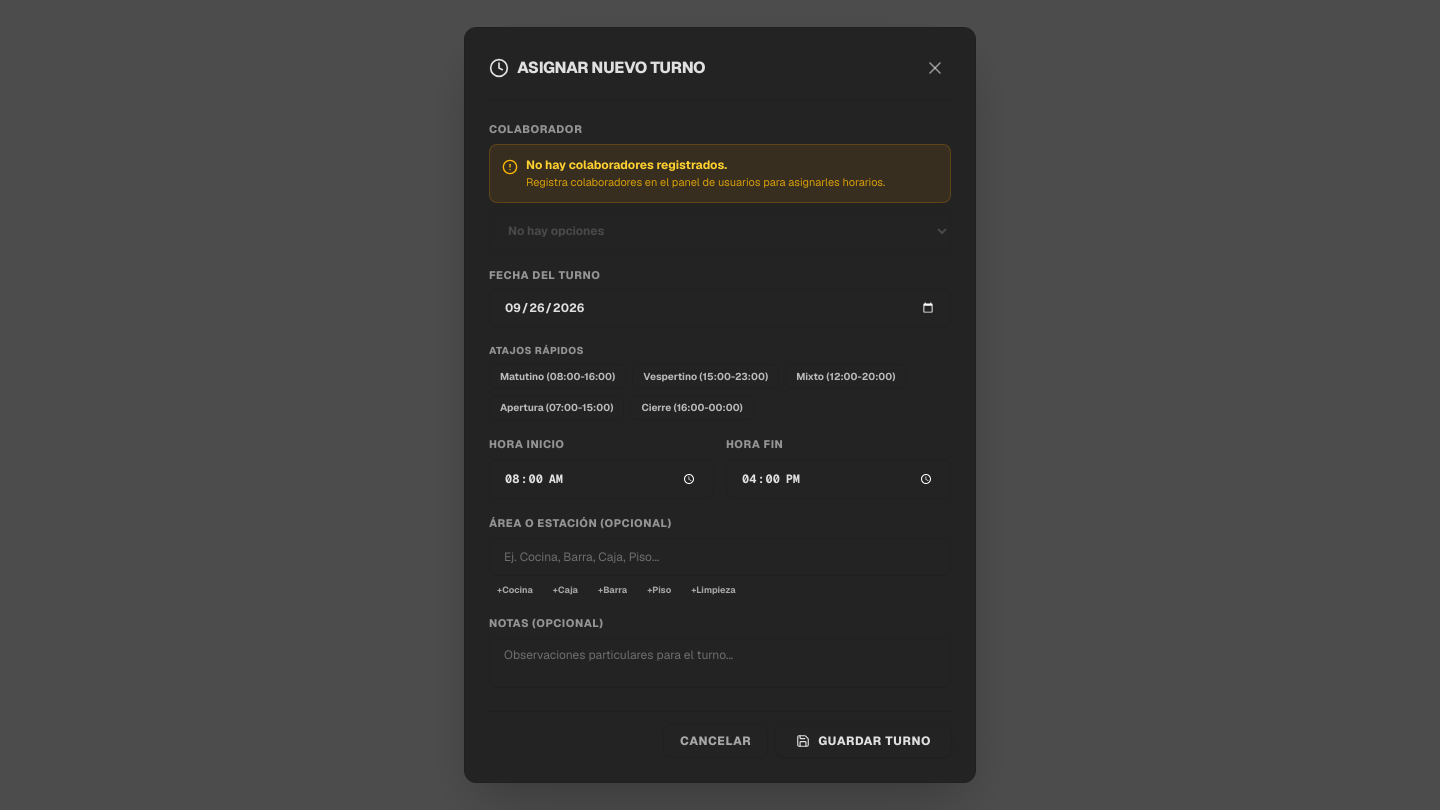
ShiftModal Component › renders disabled select and alert when users list is empty
Expected: the text "No hay colaboradores registrados." is shown, [526,157,727,173]
# Try saving without collaborator
Click the button "Guardar Turno". click: coordinates (864, 741)
box: [776,725,951,757]
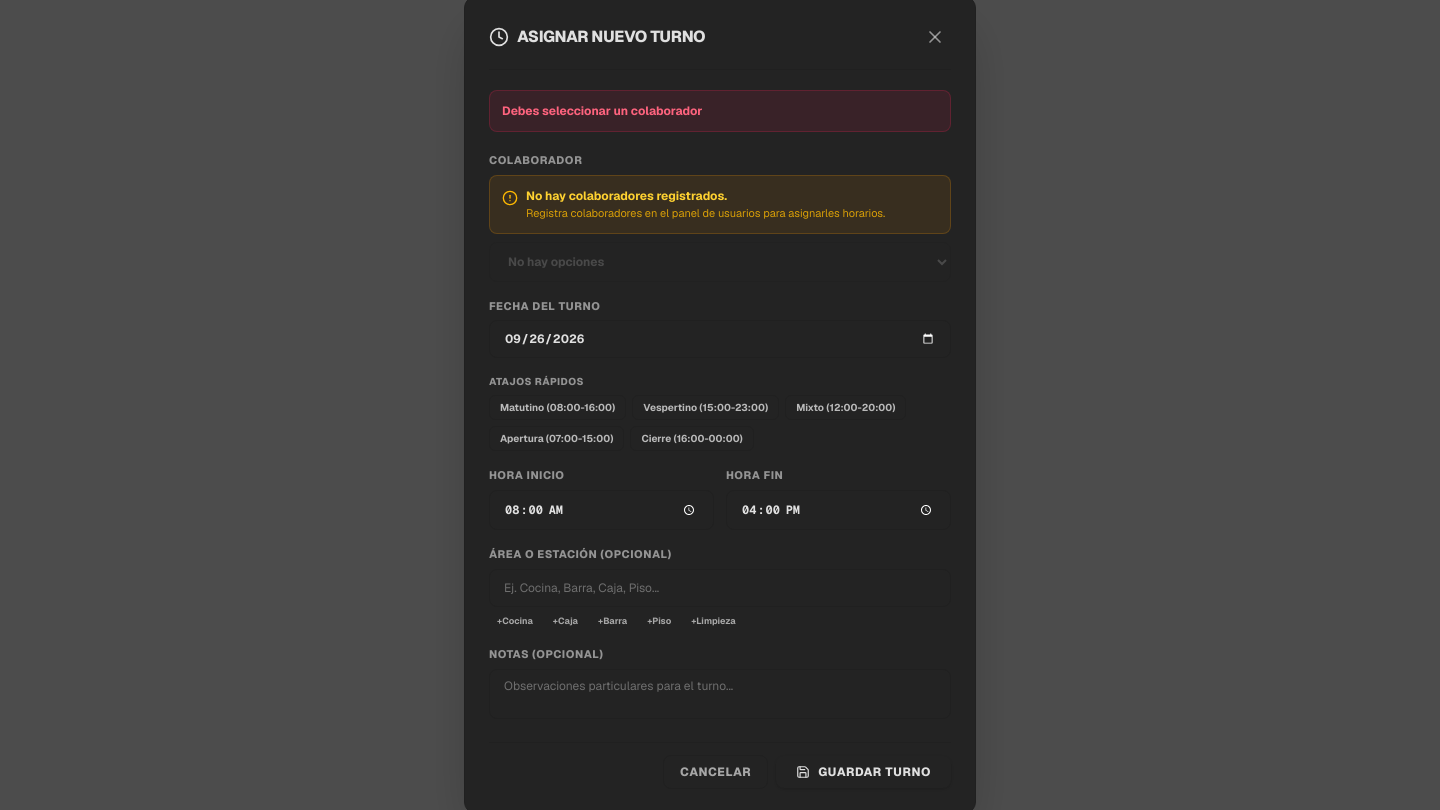
Expected: the text "Debes seleccionar un colaborador" is shown, [489,90,951,132]
